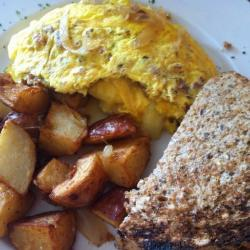bread: (135, 77, 248, 249)
omelette: (13, 2, 219, 129)
